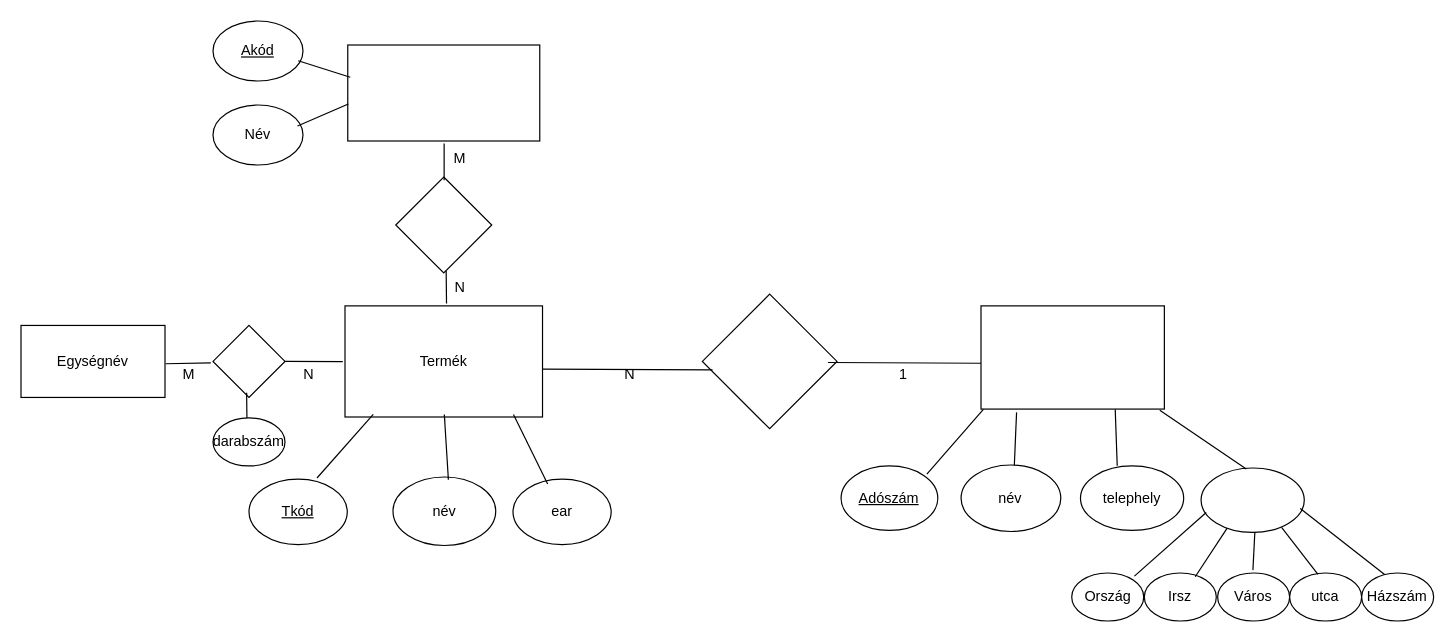
Image size: 1456x642. Some labels were removed from this diagram. The shapes that lost their labels are listed below. From the top down, each one's centre as x and y in pixels, then its label:
(443,92): Alkatrész
(443,224): Felépül
(248,360): Tartalmaz
(769,361): Készíti
(1072,357): Gyártó
(1252,499): postai cím
